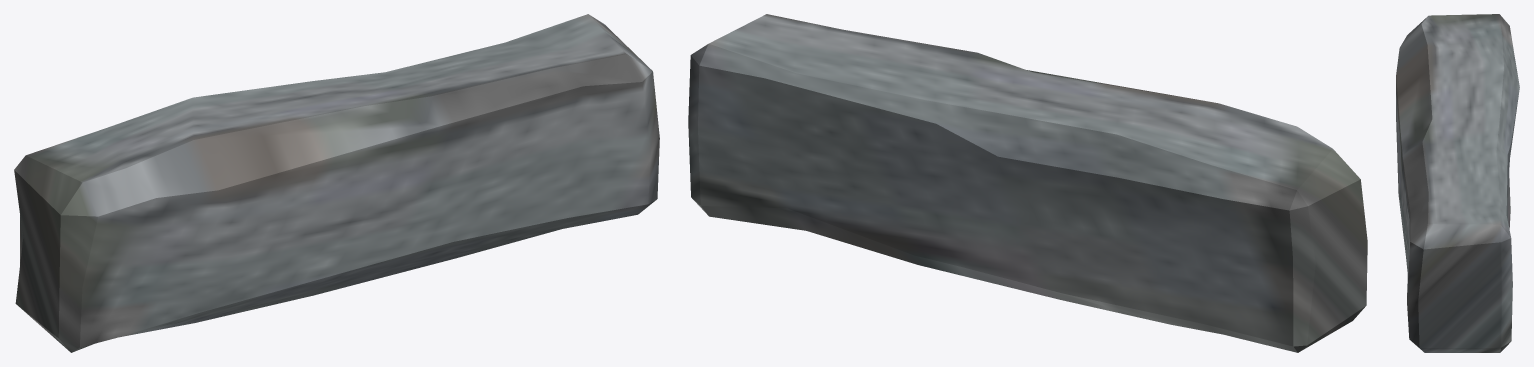
Rendered from stoneC.obj.
The picture shows the model from 3 angles, left to right: view 1: azimuth 30°, elevation 25°; view 2: azimuth 150°, elevation 25°; view 3: azimuth 270°, elevation 25°; orthographic projection. The views are drawn at different scales.
Parts seen in each view (by area): view 1: stoneC1; view 2: stoneC1; view 3: stoneC1.
Boxes of the visible parts, x1,y1,x2,y2 form: stoneC1: (14, 14, 659, 352); stoneC1: (688, 14, 1367, 352); stoneC1: (1396, 14, 1519, 352).
Size of the model in its own units: 2.01 by 0.6051 by 0.4643.
Materials: 1 (1 with a texture image).
